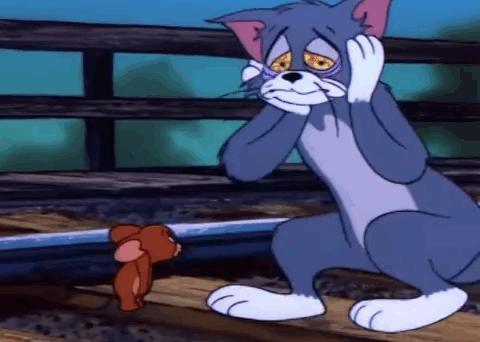jerry: (63, 223, 184, 311)
